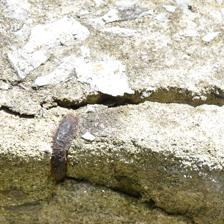Crack: (6, 78, 221, 123), (66, 172, 193, 223)
